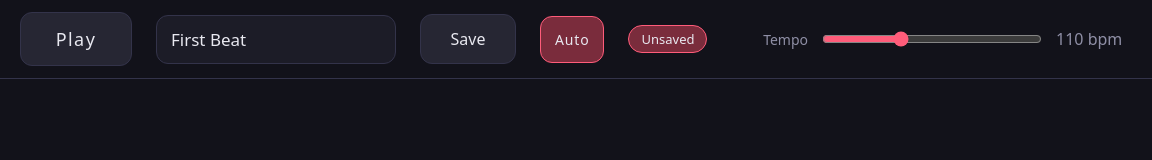
Test case: Transport › changes the tempo
Set the slider named "tempo in beats" to "150" at (942, 39), box [822,31,1042,47]
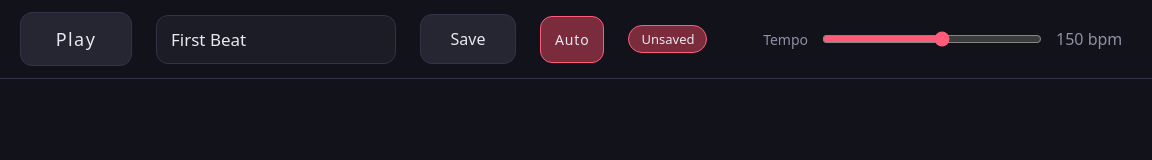
Now the text "150 bpm" is shown, box [1056,28,1132,50]
